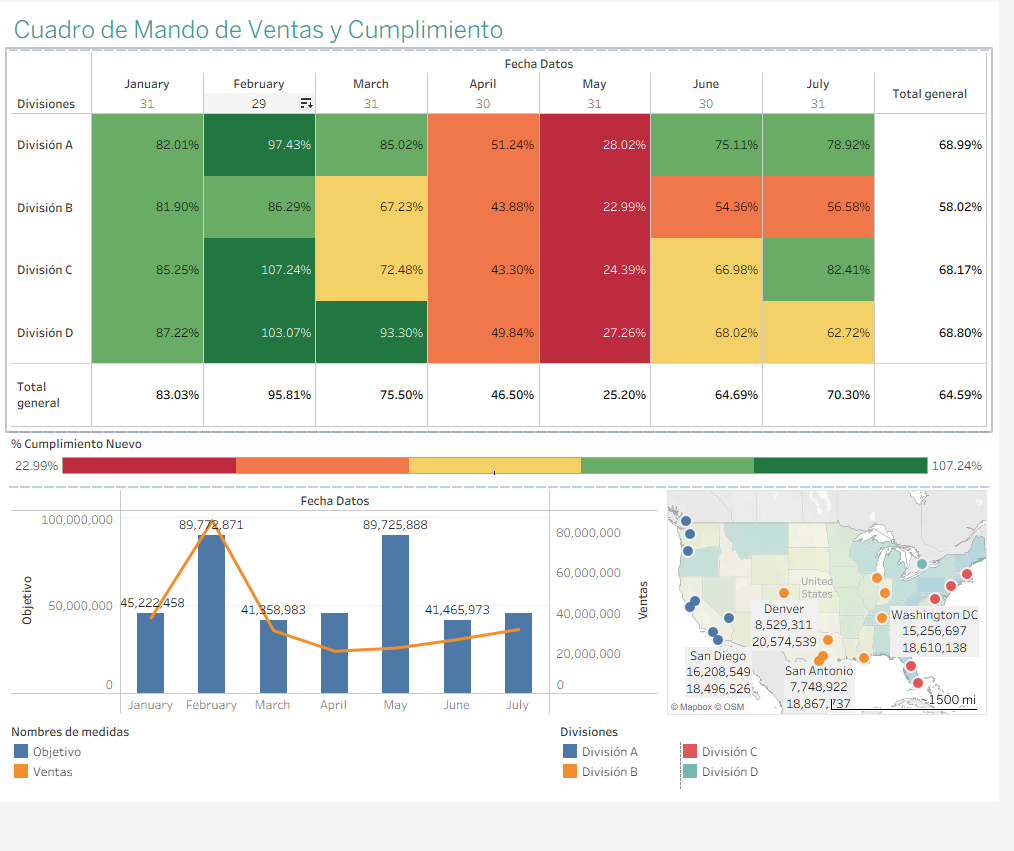

The page's visual inventory and layout, read from the dashboard file:
{"tool":"tableau","page":{"name":"Dashboard 1","canvas":[1000,800],"ordinal":0},"visuals":[{"type":"title","box":[8,8,984,39]},{"type":"worksheet","title":"Tablas cruzadas","mark":"Square","rows":["Divisiones"],"cols":["Fecha Datos","Fecha Datos"],"box":[8,47,984,382]},{"type":"legend","title":"Tablas cruzadas","param":"[federated.024r2pq00svu1x18wsnj41wjsamx].[usr:Calculation_0885420711227393:qk]","box":[8,429,984,55]},{"type":"worksheet","title":"Grafico doble eje","mark":"Automatic","rows":["Objetivo","Ventas"],"cols":["Fecha Datos"],"box":[8,484,656,232.8]},{"type":"worksheet","title":"Mapas Gograficos","mark":"Automatic","rows":["Latitud"],"cols":["Longitud"],"box":[664,484,328,232.8]},{"type":"legend","title":"Grafico doble eje","param":"[federated.024r2pq00svu1x18wsnj41wjsamx].[:Measure Names]","box":[8,716.8,549,66]},{"type":"legend","title":"Mapas Gograficos","param":"[federated.024r2pq00svu1x18wsnj41wjsamx].[none:Divisiones:nk]","box":[557,716.8,435,75.2]}]}

Visuals, with their boxes on the page's 1000x800 design canvas (x1, y1, x2, y2). These are canvas units, not pixel positions in the 1014x851 screenshot, which may show the page scaled, cropped or inside an application window:
title: crop(8, 8, 992, 47)
"Tablas cruzadas" worksheet (Square marks): crop(8, 47, 992, 429)
"Tablas cruzadas" legend: crop(8, 429, 992, 484)
"Grafico doble eje" worksheet: crop(8, 484, 664, 717)
"Mapas Gograficos" worksheet: crop(664, 484, 992, 717)
"Grafico doble eje" legend: crop(8, 717, 557, 783)
"Mapas Gograficos" legend: crop(557, 717, 992, 792)
